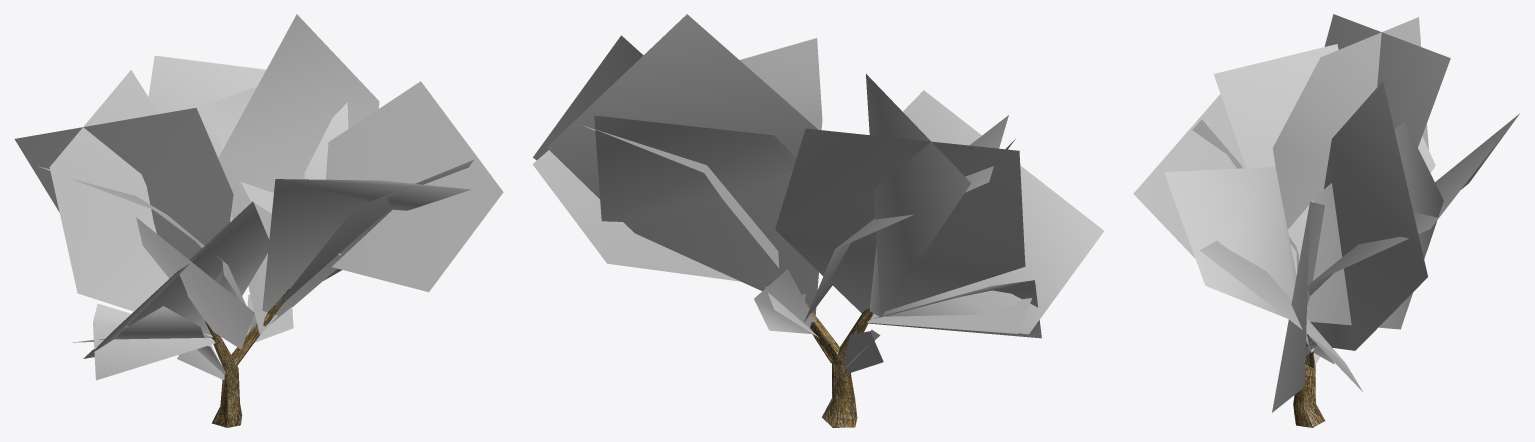
The model's file is tree 1.FBX.
The picture shows the model from 3 angles, left to right: view 1: azimuth 30°, elevation 25°; view 2: azimuth 150°, elevation 25°; view 3: azimuth 270°, elevation 25°; orthographic projection. The views are drawn at different scales.
Visible parts, largest first — view 1: MepTree8_29; view 2: MepTree8_29; view 3: MepTree8_29.
Boxes of the visible parts, bbox=[...] form: MepTree8_29: bbox=[14, 14, 503, 427]; MepTree8_29: bbox=[532, 14, 1103, 427]; MepTree8_29: bbox=[1133, 14, 1519, 427].
Bounding box in the file's own units: 272 × 210 × 186.
